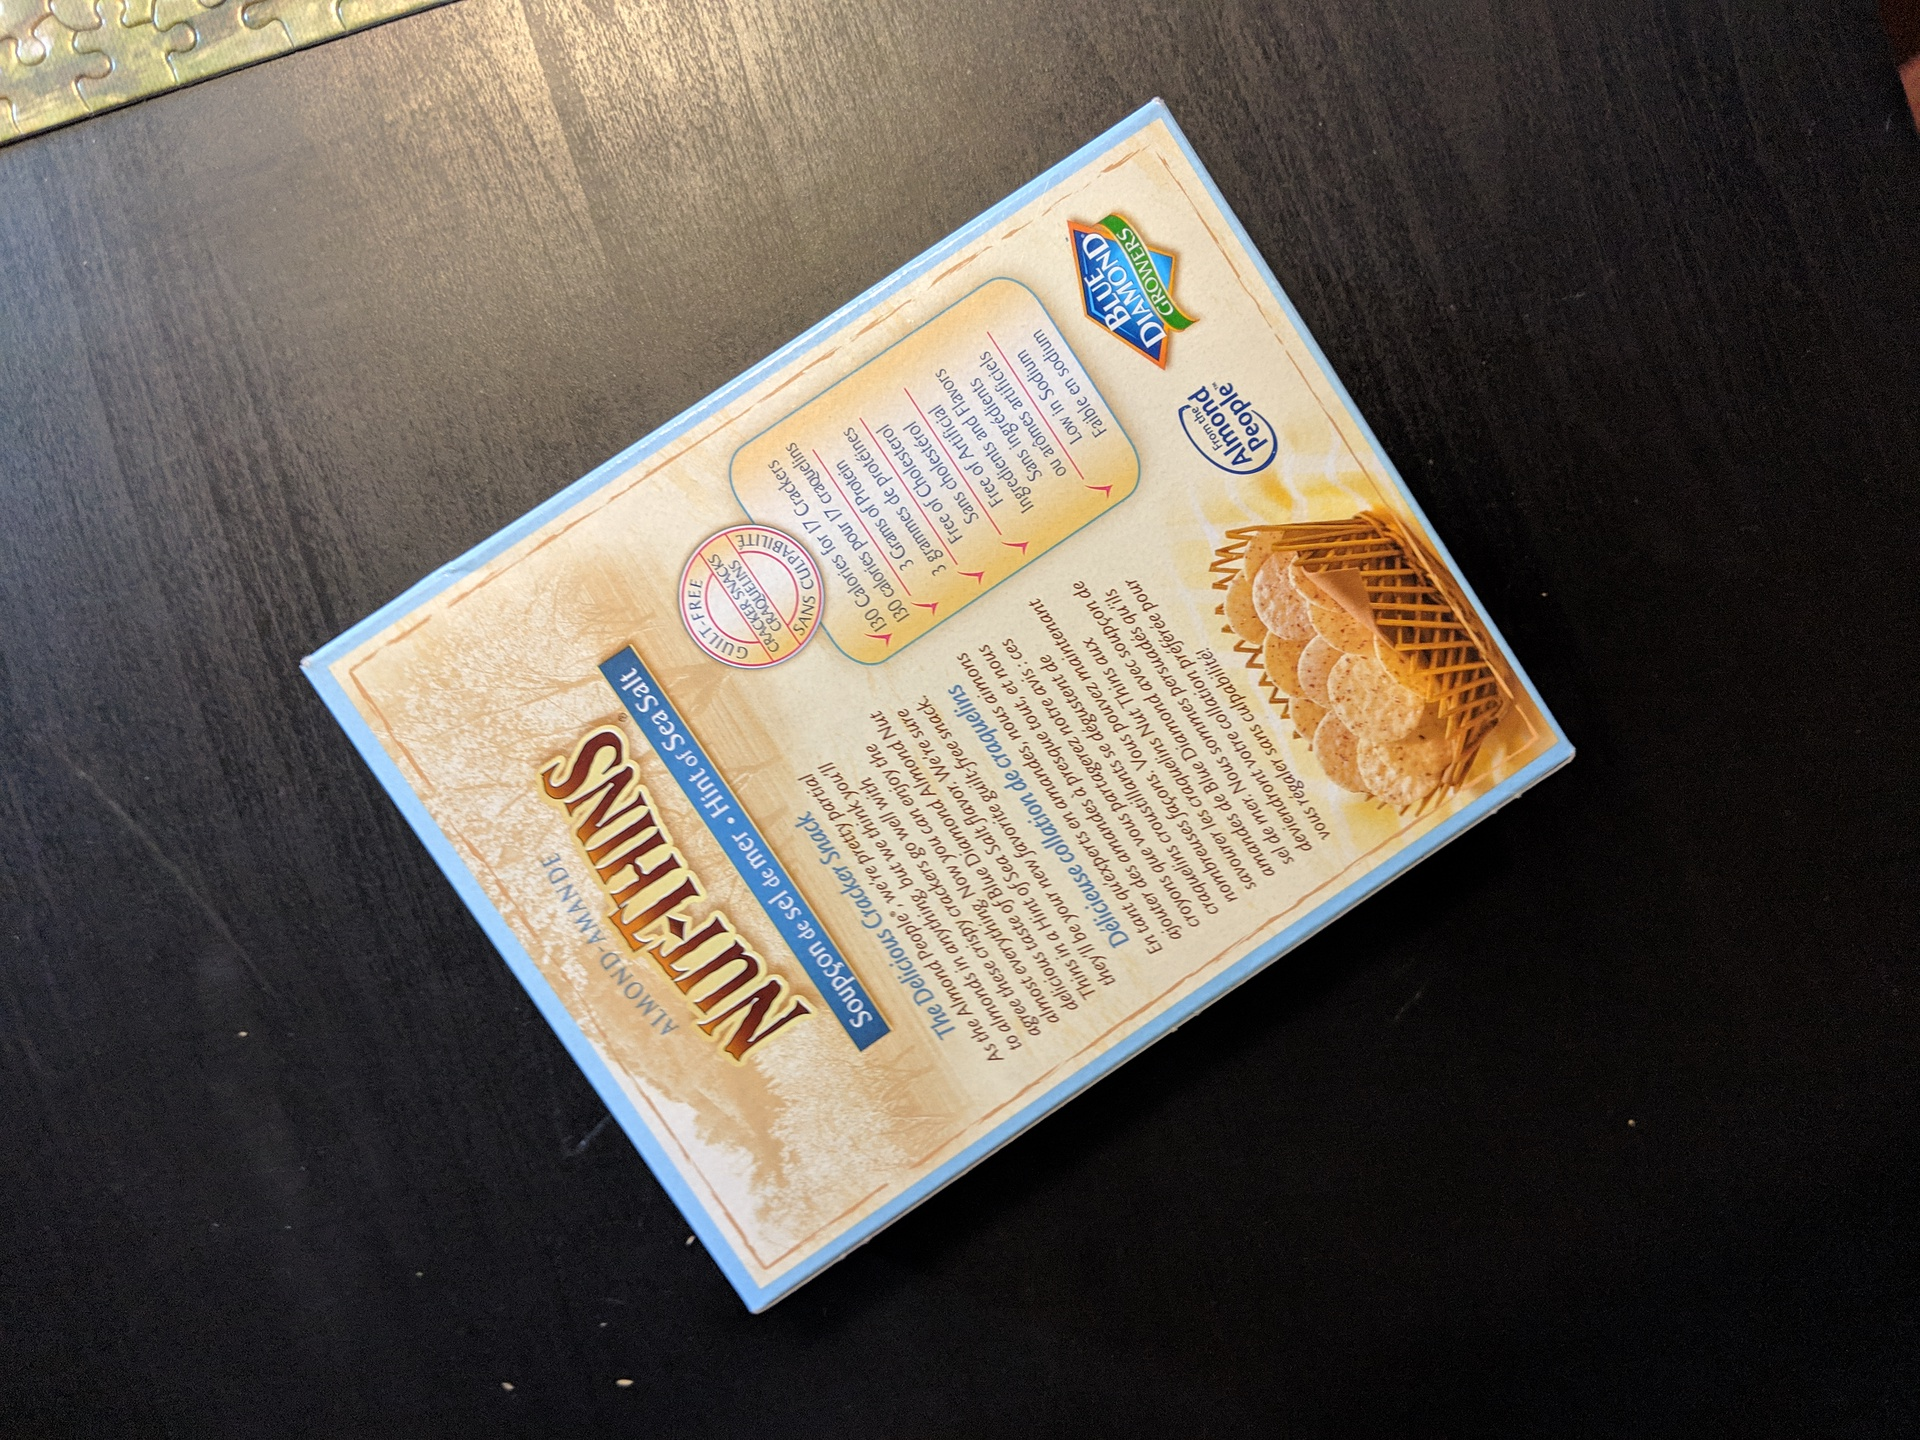blue_diamond_nut_thins_almond_seasalt: (484, 186, 1450, 1181)
